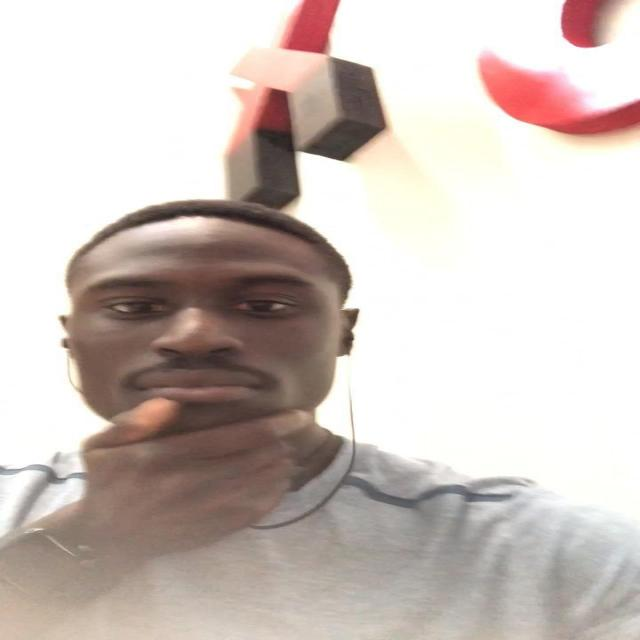face: (70, 238, 348, 446)
